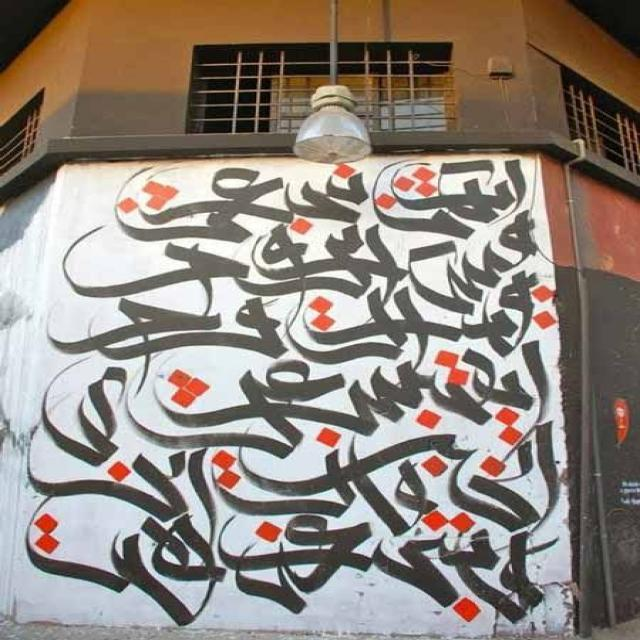-: (27, 160, 556, 624)
